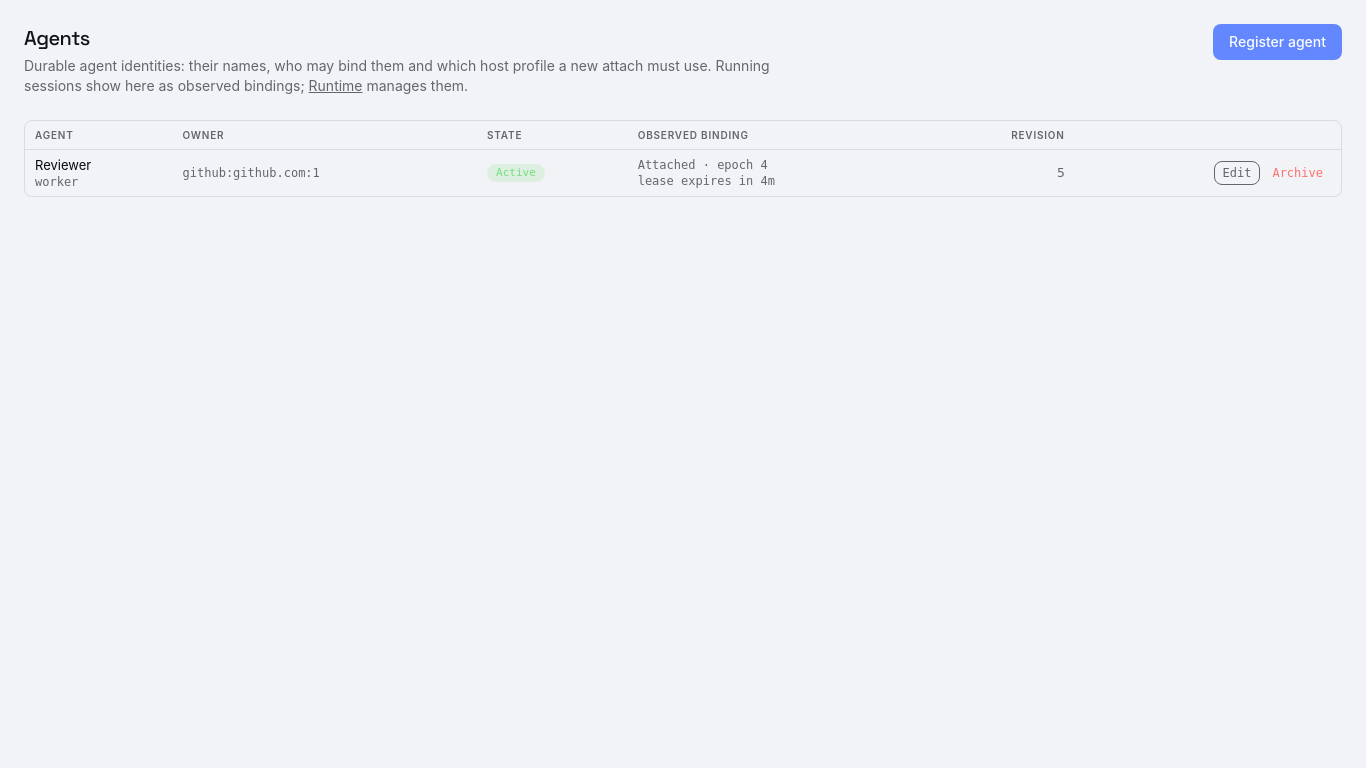
Scenario: archive and unarchive › the dialog describes the preview and sends the reviewed revision and epoch
Click the button with aria-label "Archive worker".
click(1298, 173)  # box top-left (1264, 161), bottom-right (1331, 185)
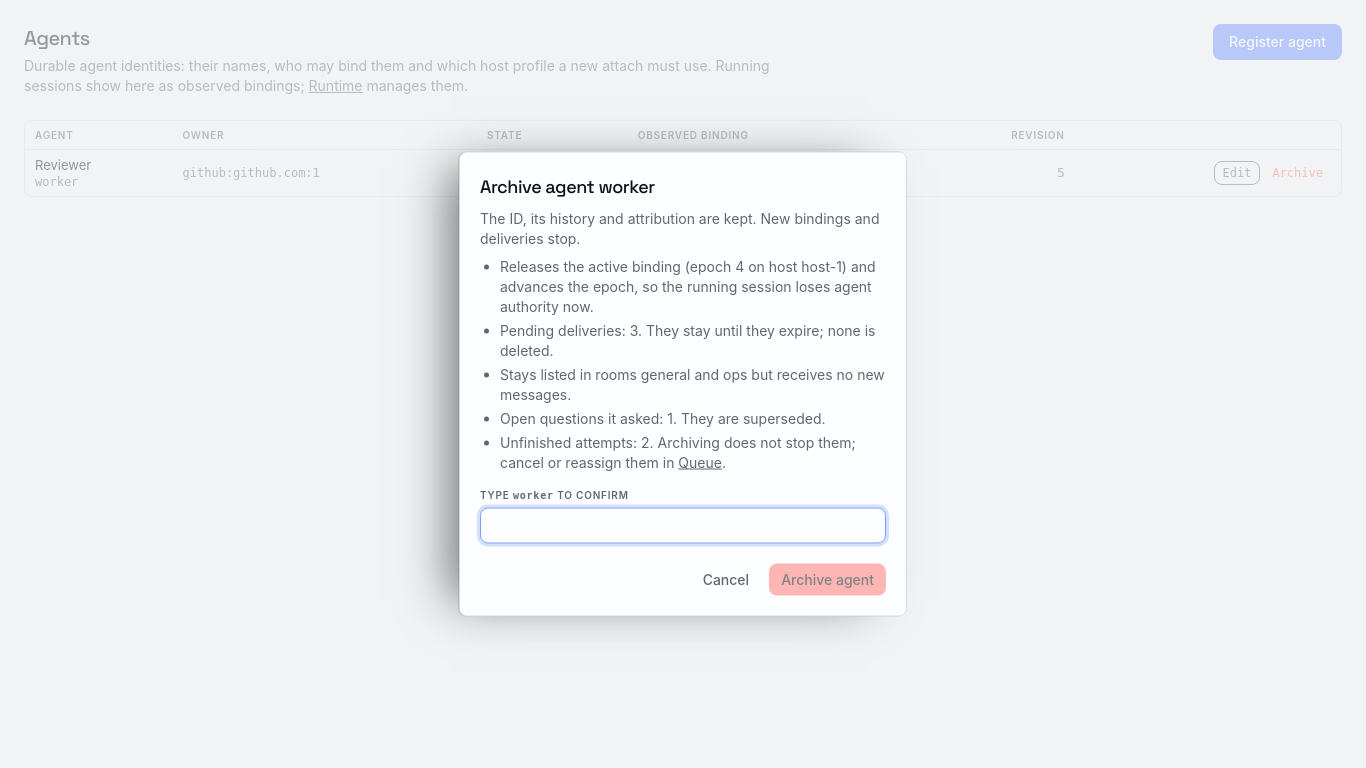
Expected: the list named "Archive effects" shows "Releases the active binding (epoch 4 on host host-1)", top-left (500, 258), bottom-right (876, 314)
Expected: the list named "Archive effects" shows "Pending deliveries: 3", top-left (500, 322), bottom-right (876, 358)
Expected: the list named "Archive effects" shows "rooms general and ops", top-left (500, 366), bottom-right (885, 402)
Type "worker" into the field.
click(683, 526); type("worker")  # box top-left (480, 508), bottom-right (886, 544)
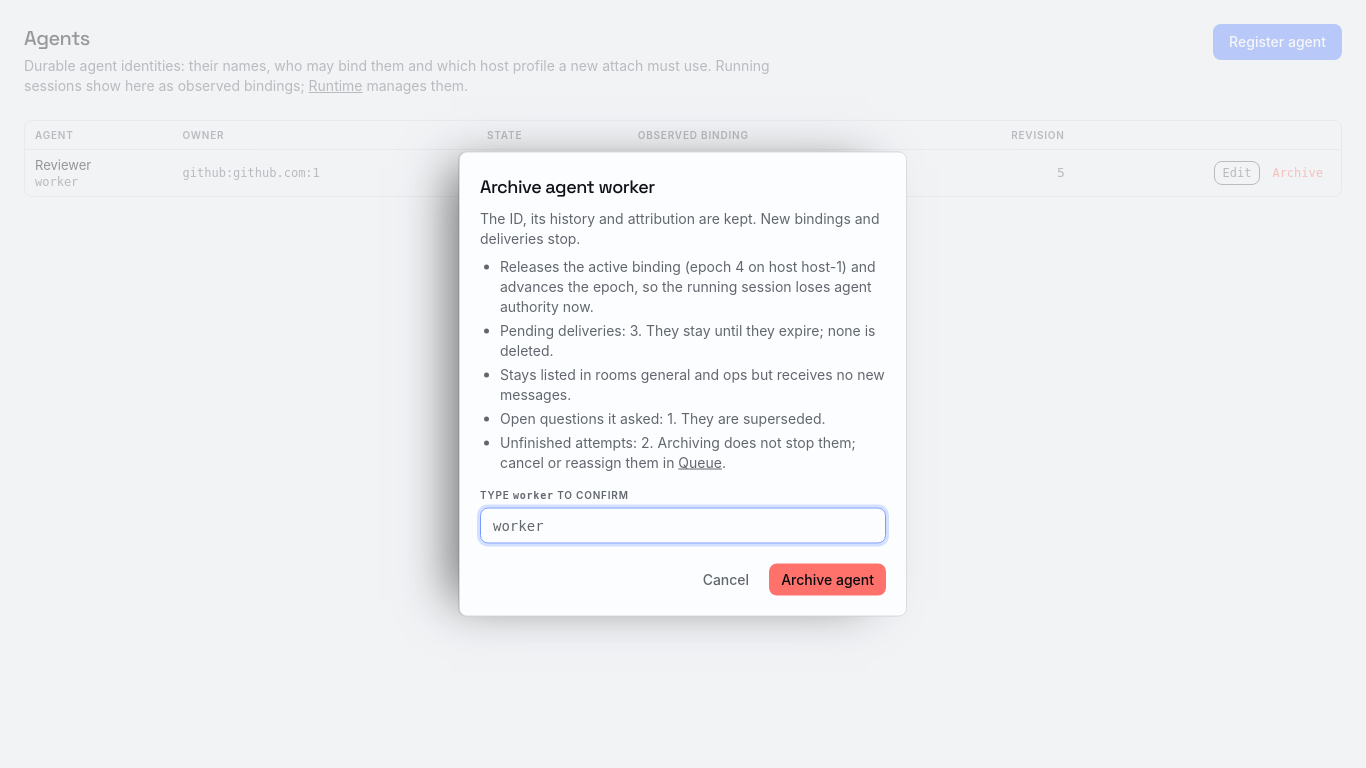
Click the button "Archive agent".
click(828, 580)  # box top-left (769, 564), bottom-right (886, 596)
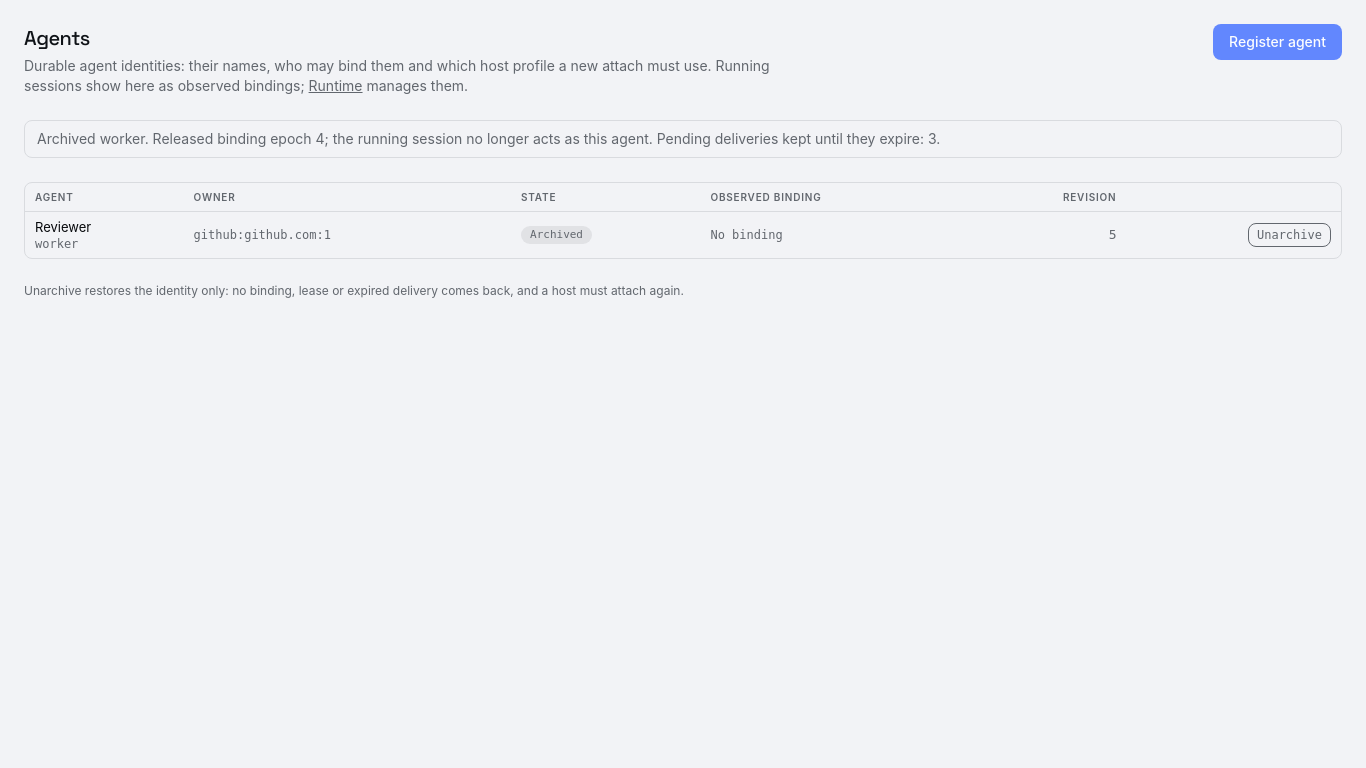
Expected: the text "Archived worker. Released binding epoch 4" is shown, top-left (37, 130), bottom-right (940, 147)
